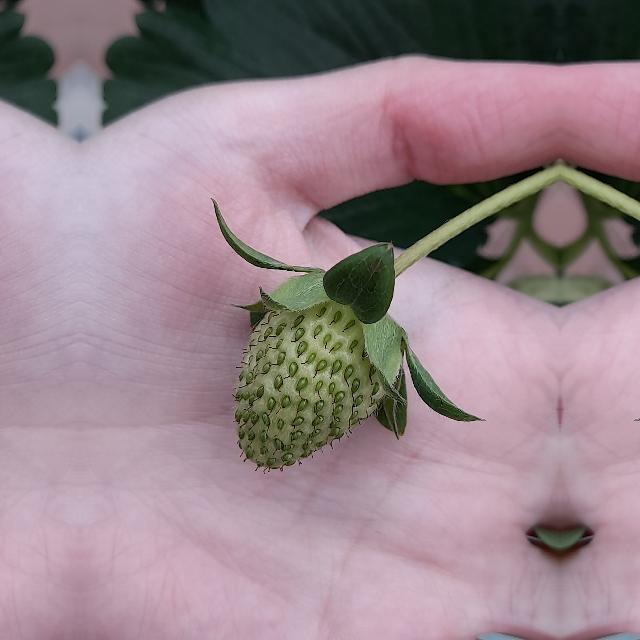Health_25: (234, 300, 384, 468)
